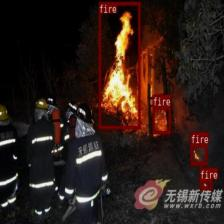fire: (99, 1, 140, 128), (152, 106, 170, 133), (190, 144, 207, 164), (200, 180, 212, 190)
